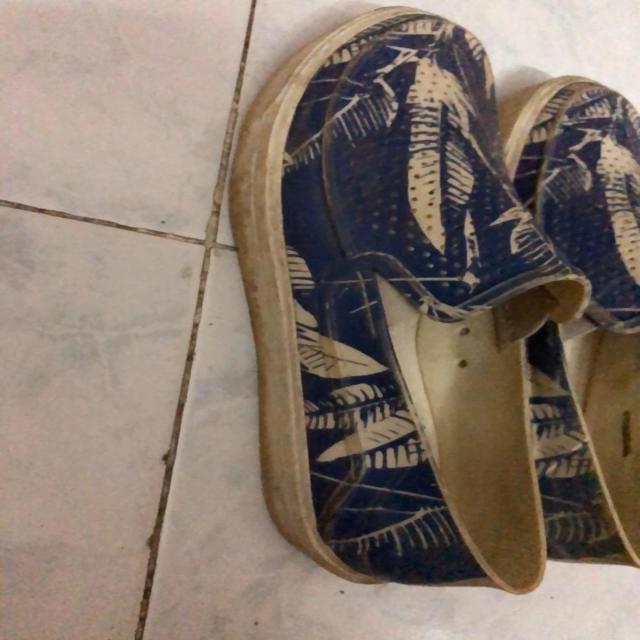shoe: (228, 11, 640, 597)
